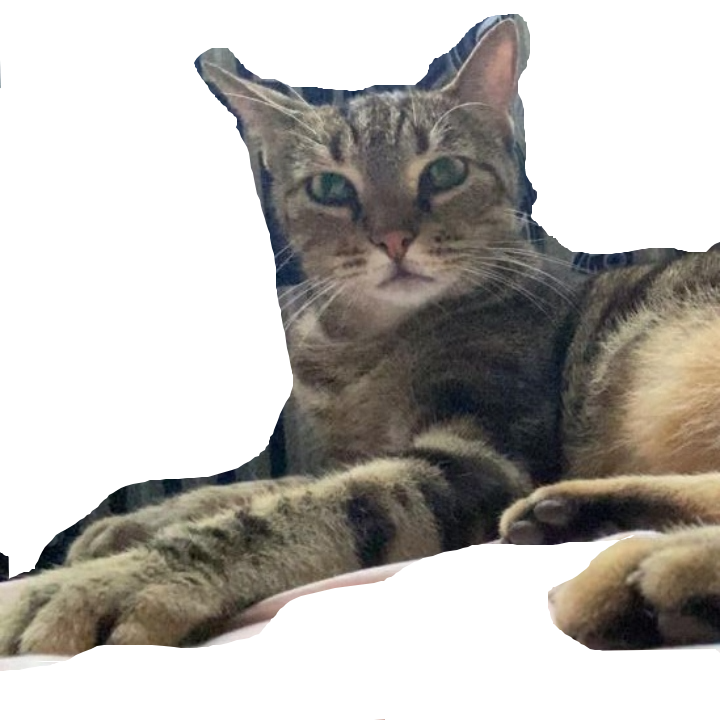Cat: (2, 10, 719, 671)
